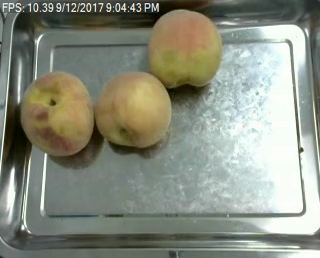Peach: (22, 69, 98, 156), (95, 69, 172, 148), (149, 9, 222, 87)
